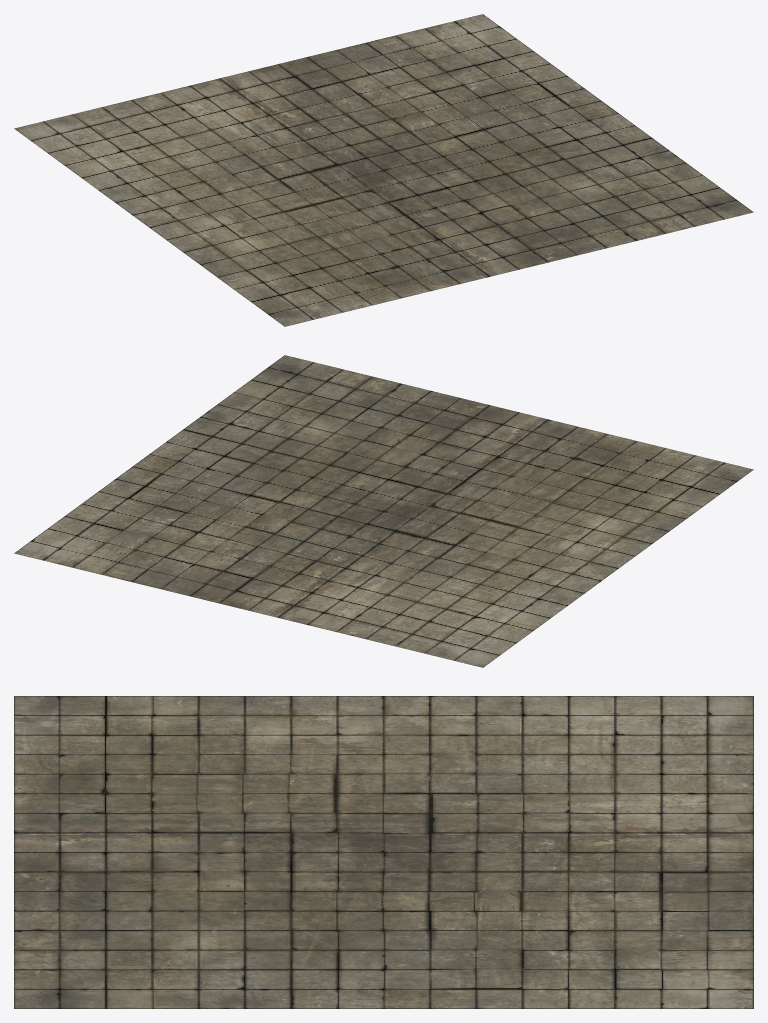
The model's file is floor.FBX.
The picture shows the model from 3 angles, top to bottom: view 1: azimuth 30°, elevation 25°; view 2: azimuth 150°, elevation 25°; view 3: azimuth 270°, elevation 25°; orthographic projection. The views are drawn at different scales.
Visible parts, largest first — view 1: floor; view 2: floor; view 3: floor.
Part boxes in pixels (x1=…): floor: x1=14, y1=14, x2=753, y2=326; floor: x1=14, y1=355, x2=753, y2=667; floor: x1=14, y1=696, x2=753, y2=1008.
Bounding box in the file's own units: 100 × 0.9196 × 100.
